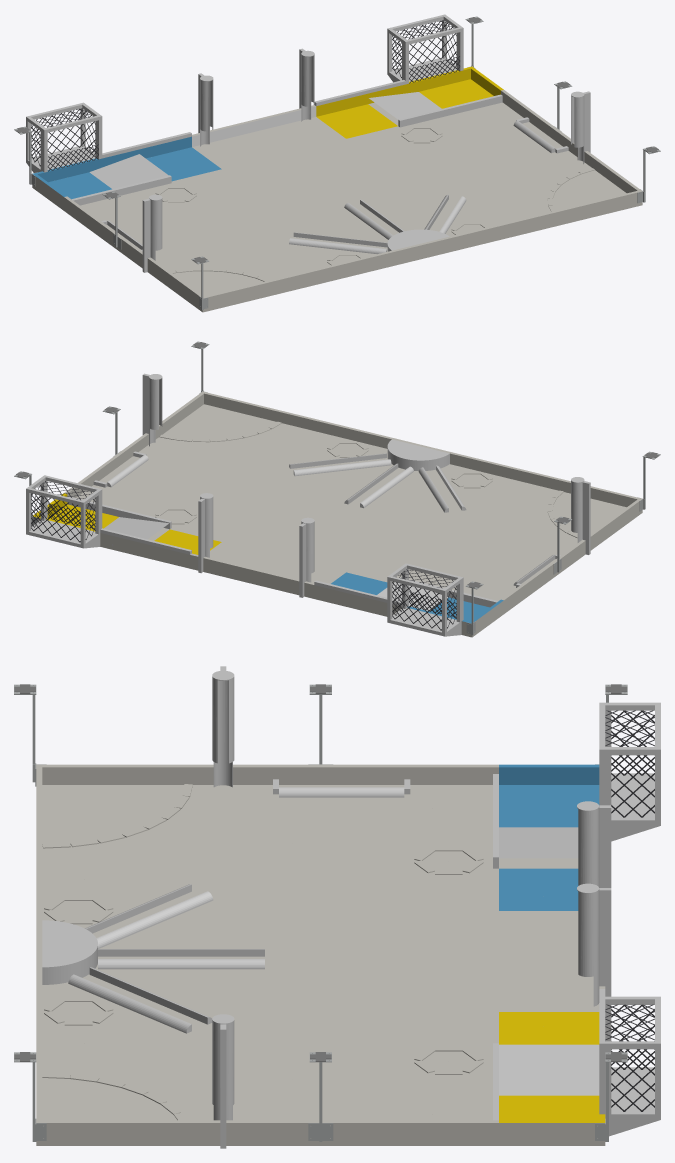
File: table_statique.dae
The picture shows the model from 3 angles, top to bottom: view 1: azimuth 30°, elevation 25°; view 2: azimuth 150°, elevation 25°; view 3: azimuth 270°, elevation 25°; orthographic projection. The views are drawn at different scales.
Parts seen in each view (by area): view 1: Table_1, Part4_11, Part4_1, Solid1, Solid11, Part3_1, Solid29, Solid28, Solid211, Part3_2, Part8_1, Solid210 (+9 smaller); view 2: Table_1, Part4_11, Part4_1, Part8_1, Solid11, Solid211, Solid1, Part9_5, Net2_1, Net2_11, Solid210, Part3_1 (+9 smaller); view 3: Table_1, Solid11, Part4_1, Part4_11, Part8_1, Solid1, Solid210, Solid29, Part9_1, Solid211, Solid28, Part9_6 (+13 smaller).
Boxes of the visible parts, x1,y1,x2,y2 form: Table_1: (32, 66, 642, 312); Part4_11: (387, 14, 463, 84); Part4_1: (26, 102, 102, 172); Solid1: (89, 154, 168, 189); Solid11: (369, 92, 441, 119); Part3_1: (398, 94, 502, 127); Solid29: (301, 55, 314, 121); Solid28: (200, 79, 213, 146); Solid211: (571, 95, 584, 163); Part3_2: (72, 175, 171, 205); Part8_1: (387, 229, 449, 251); Solid210: (150, 199, 162, 260); Table_1: (33, 391, 642, 637); Part4_11: (26, 475, 102, 548); Part4_1: (387, 563, 463, 636); Part8_1: (387, 439, 449, 470); Solid11: (104, 517, 168, 539); Solid211: (149, 378, 162, 446); Solid1: (377, 582, 447, 610); Part9_5: (293, 459, 391, 476); Net2_1: (392, 581, 441, 630); Net2_11: (31, 493, 80, 542); Solid210: (571, 481, 582, 542); Part3_1: (67, 496, 171, 529); Table_1: (36, 764, 605, 1145); Solid11: (499, 1044, 599, 1095); Part4_1: (599, 702, 660, 825); Part4_11: (599, 996, 660, 1119); Part8_1: (42, 920, 97, 984); Solid1: (499, 827, 578, 858); Solid210: (212, 677, 234, 787); Solid29: (578, 889, 599, 1006); Part9_1: (98, 959, 264, 969); Solid211: (212, 1021, 234, 1120); Solid28: (578, 807, 599, 887); Part9_6: (68, 974, 191, 1033).
Size of the model in its own units: 3.2 by 2.32 by 0.475.
